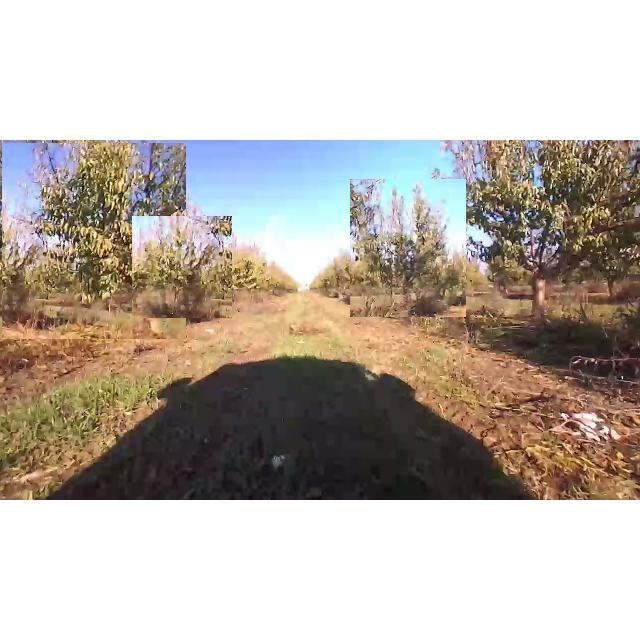tree: (432, 140, 640, 328), (2, 143, 186, 339), (350, 179, 466, 317), (132, 216, 232, 318)
